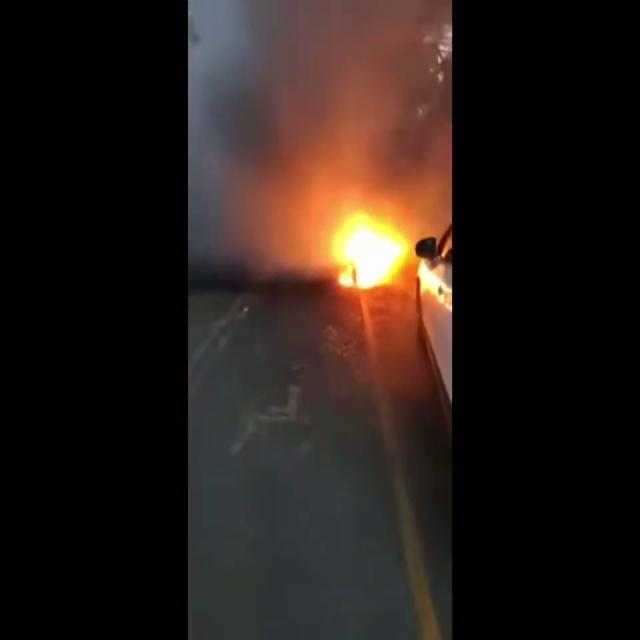Fire: (323, 192, 450, 318)
Smoke: (188, 0, 446, 262)
